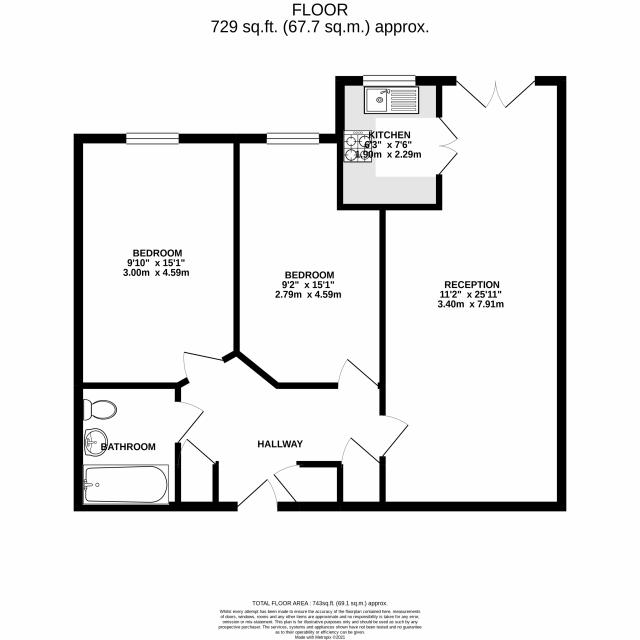DOOR: (339, 433, 387, 470), (270, 461, 303, 511), (176, 435, 220, 471), (236, 476, 280, 512), (181, 350, 227, 384), (173, 400, 207, 445), (336, 356, 379, 391), (378, 414, 410, 458)
DOUBLE DOOR: (454, 76, 537, 112), (435, 116, 460, 175)
ROOM: (379, 76, 566, 512), (73, 131, 240, 389), (335, 75, 459, 211)
WINDOW: (265, 131, 321, 145), (125, 132, 179, 146), (362, 74, 417, 87)
